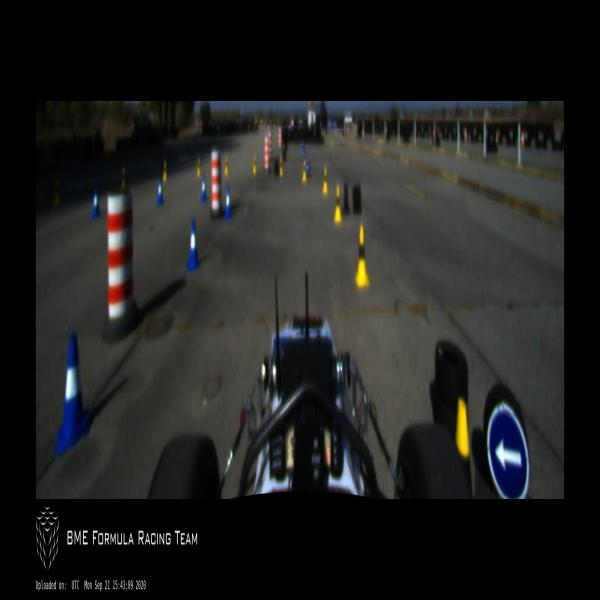blue_cone: (55, 331, 89, 461), (186, 219, 200, 274), (224, 186, 233, 222), (91, 188, 101, 219), (156, 178, 164, 206), (201, 174, 208, 204)
yellow_cone: (355, 225, 370, 288), (334, 186, 342, 224), (54, 179, 61, 205), (322, 167, 328, 194), (302, 160, 307, 183), (121, 169, 126, 190), (252, 154, 257, 174), (280, 156, 284, 177), (163, 162, 167, 182), (224, 156, 228, 176), (197, 159, 201, 176)
